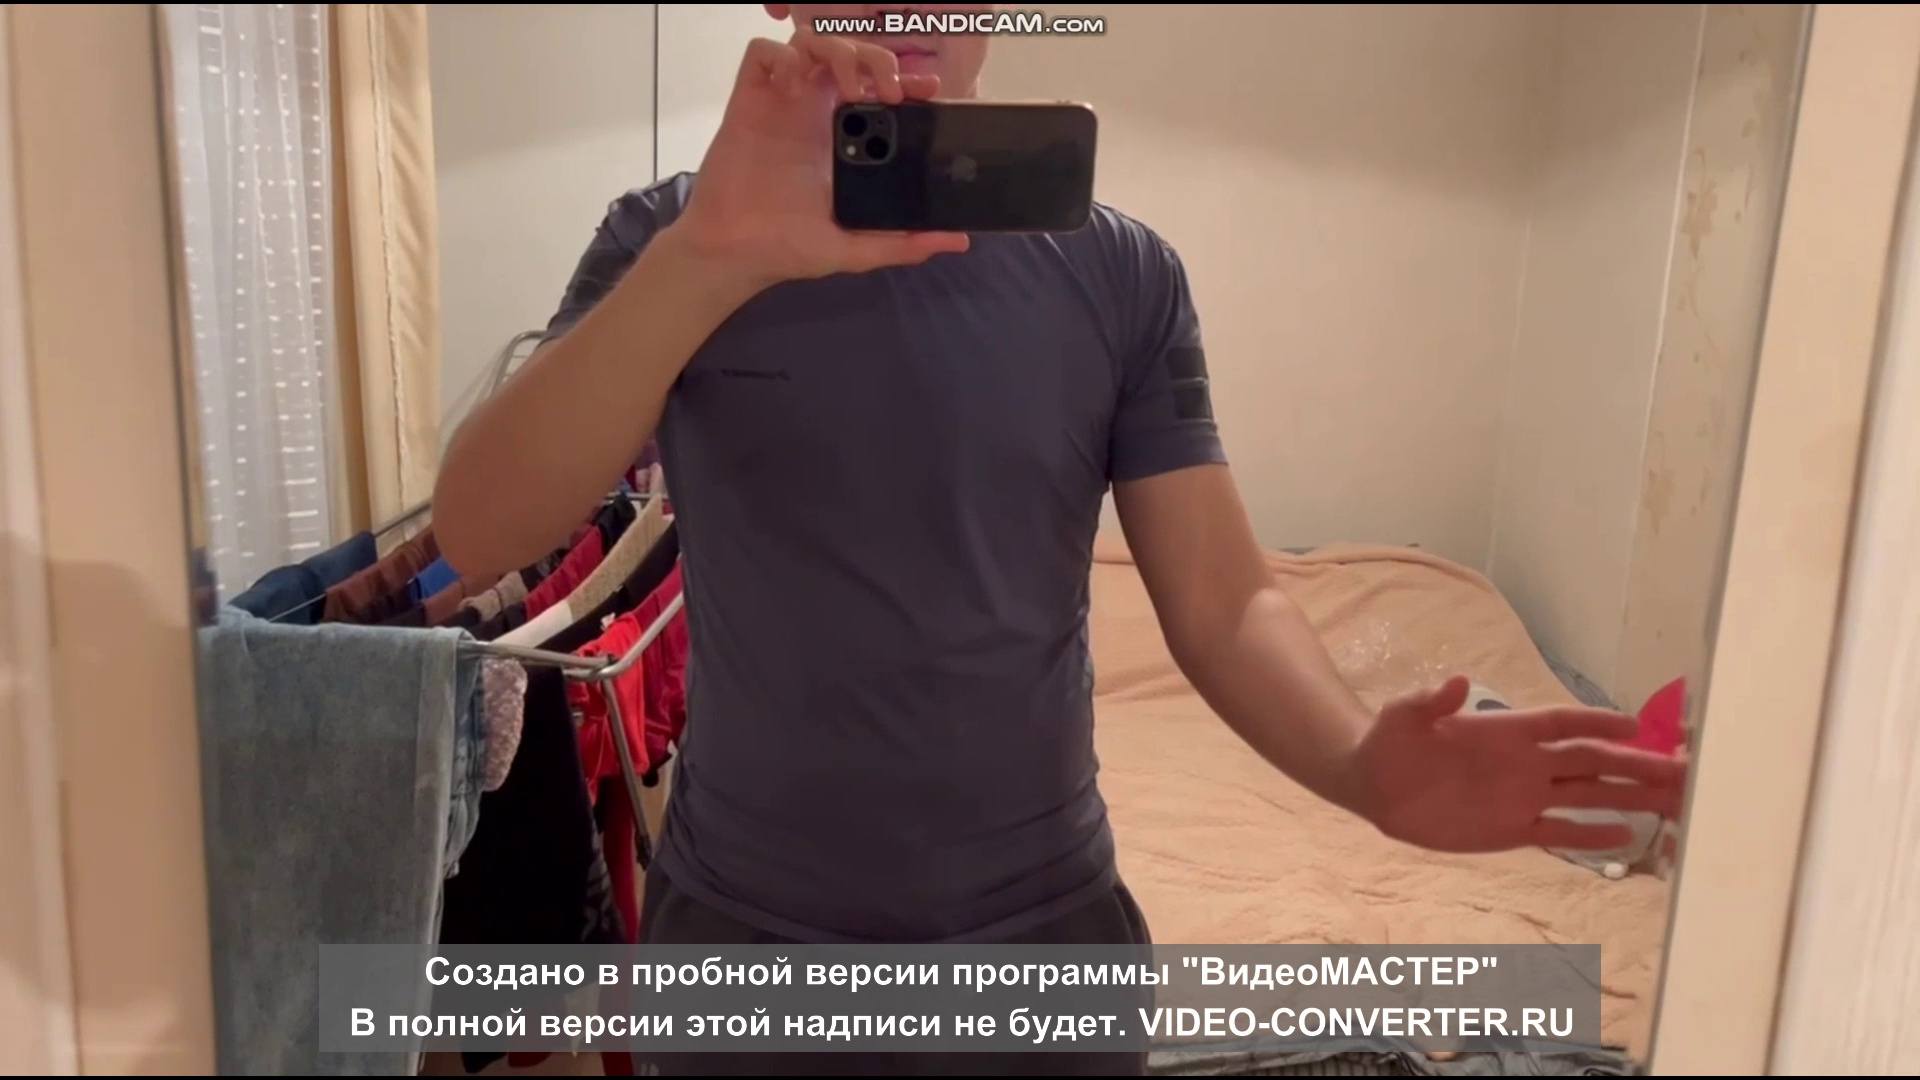Ладонь: (1370, 676, 1691, 856)
